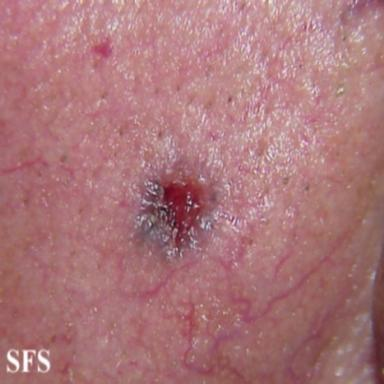basal-cell-carcinoma: (133, 157, 217, 259)
